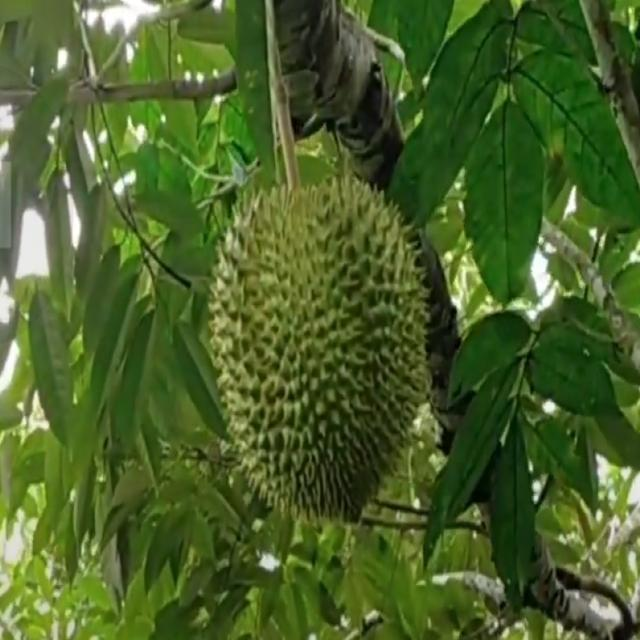immature: (209, 171, 429, 523)
